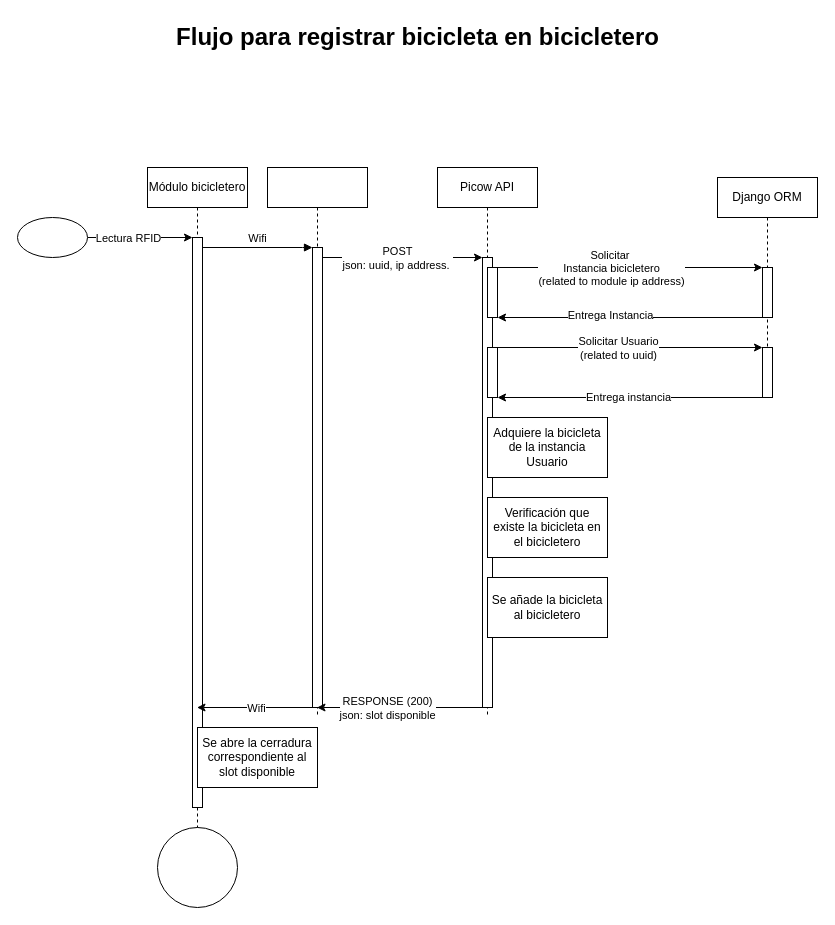
Some shapes in this 835 by 925 pixel diagram are drawn without their labels. Each missing label, with the box of its shape:
Fin: (156, 826, 238, 908)
HTTP: (266, 166, 368, 718)
llavero: (16, 216, 88, 258)
